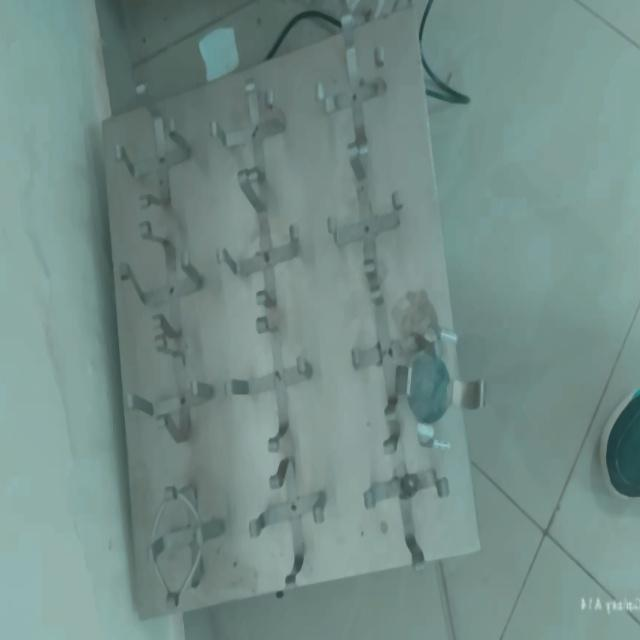Rotary Shaker: (105, 3, 468, 635)
